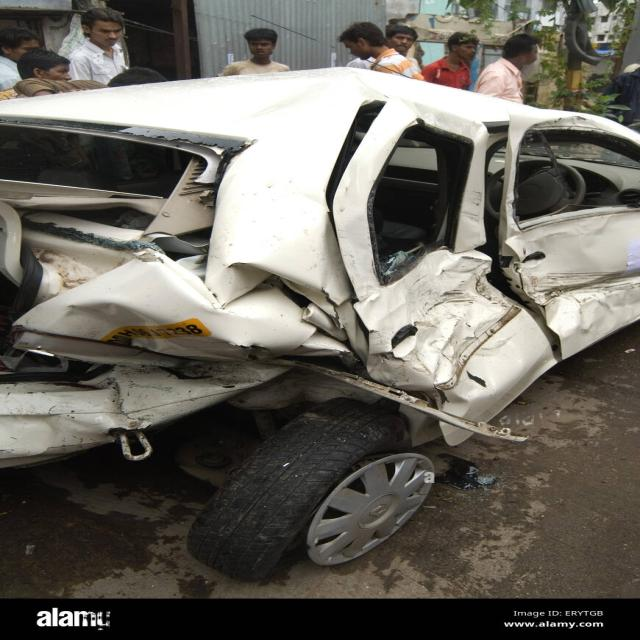accident: (0, 69, 639, 579)
